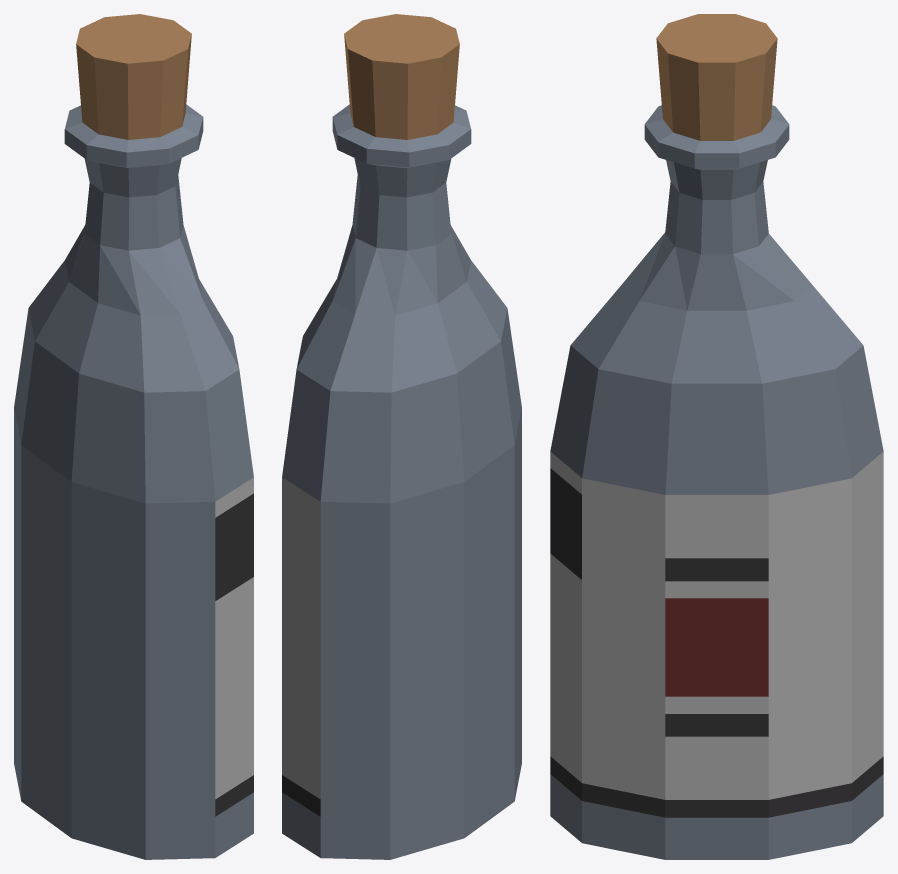
Rendered from SM_bottle_2.gltf.
3 views of the same model, side by side, from view 1: azimuth 30°, elevation 25°; view 2: azimuth 150°, elevation 25°; view 3: azimuth 270°, elevation 25° (orthographic). The views are drawn at different scales.
Parts seen in each view (by area): view 1: SM_bottle_2; view 2: SM_bottle_2; view 3: SM_bottle_2.
Part boxes in pixels (left/top/right/bottom): SM_bottle_2: left=14, top=14, right=253, bottom=859; SM_bottle_2: left=282, top=14, right=521, bottom=859; SM_bottle_2: left=550, top=14, right=883, bottom=859.
Size of the model in its own units: 0.0916 by 0.3795 by 0.1474.
1 material, 1 textured.
